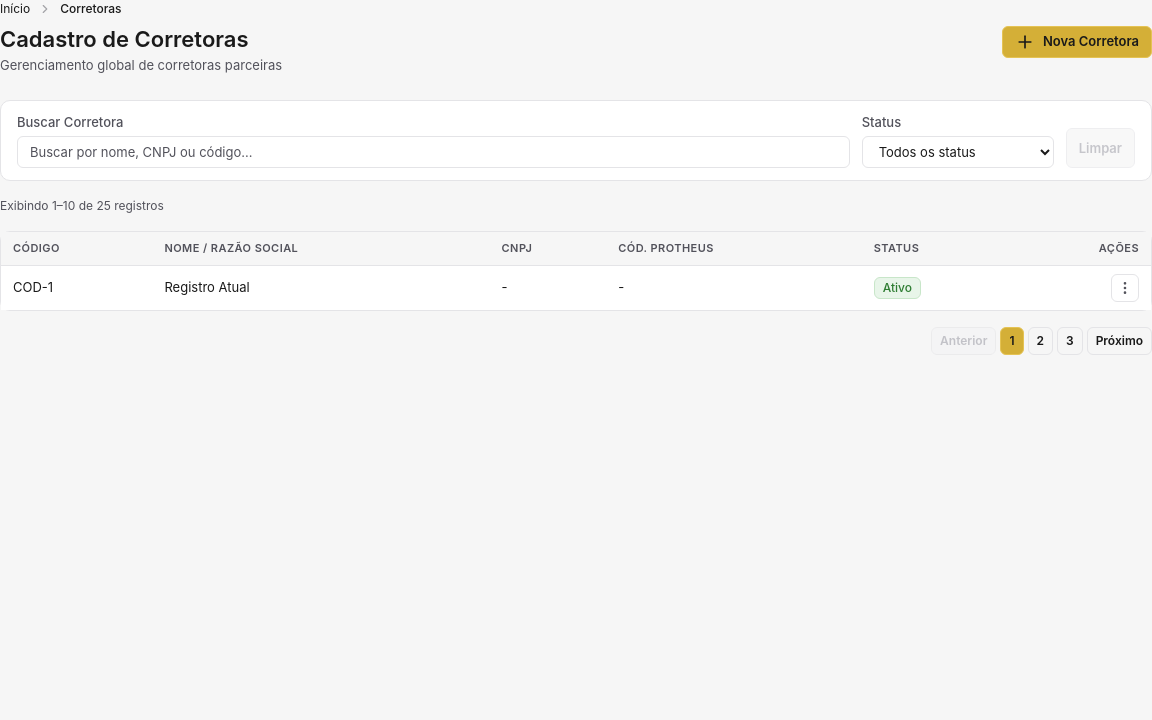
Test: Consultas de corretoras › preserva dados em atualização e permite recuperar falha da consulta após inativar
Click the button named "Mais ações" at coordinates (1125, 288), box [1111,274,1139,302]
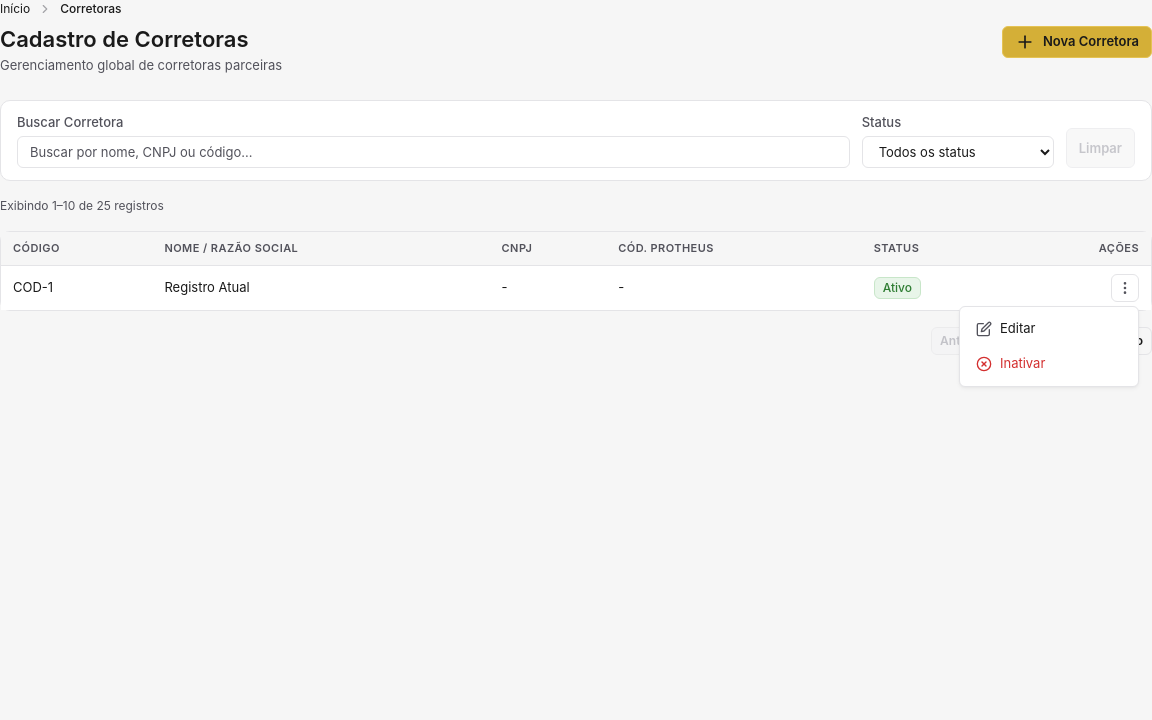
Click the menu item "Inativar" at coordinates (1049, 364), box [960,346,1138,382]
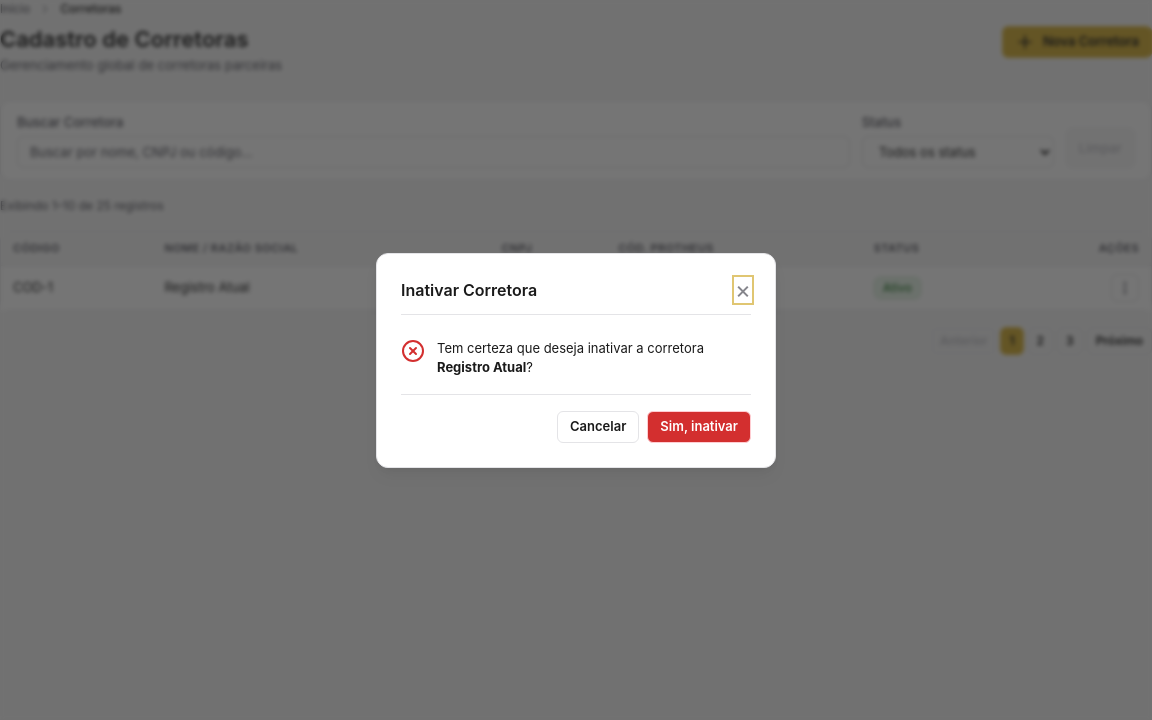
Click the button "Sim, inativar" at coordinates (699, 426), box [647,410,751,442]
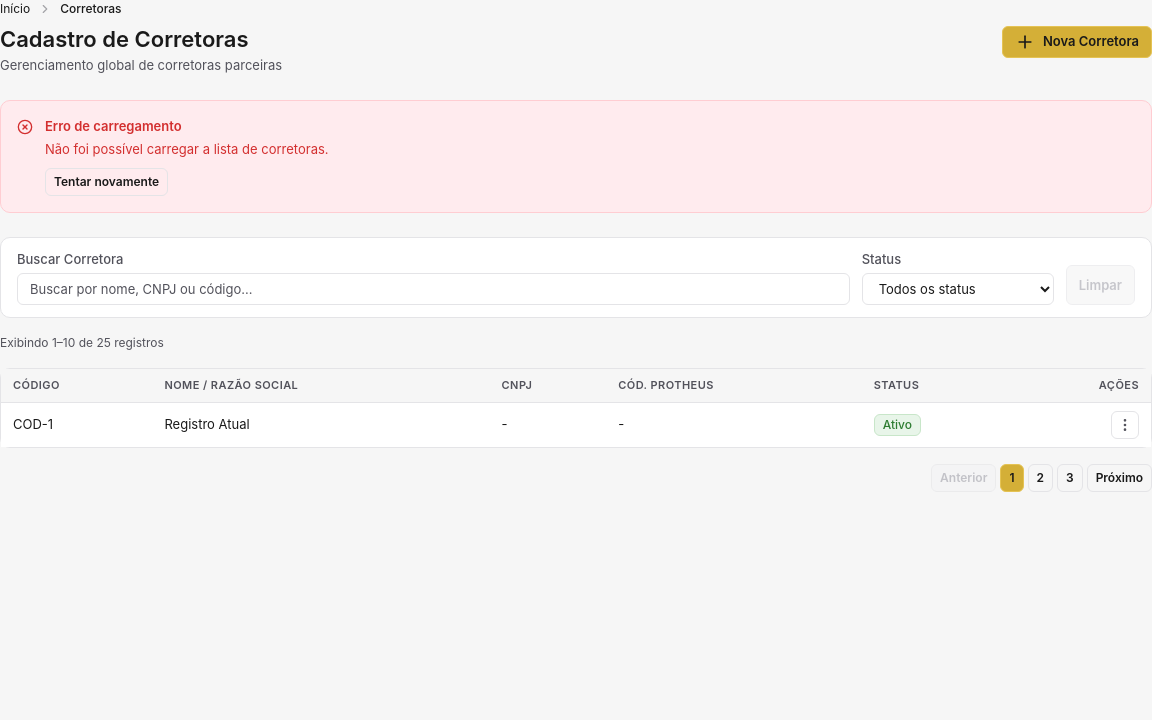
Expected: the text "Registro Atual" is shown, [152,402,490,447]
Expected: the message is shown, [0,100,1151,213]
Click the button "Tentar novamente" at coordinates (107, 182), box [45,168,168,196]
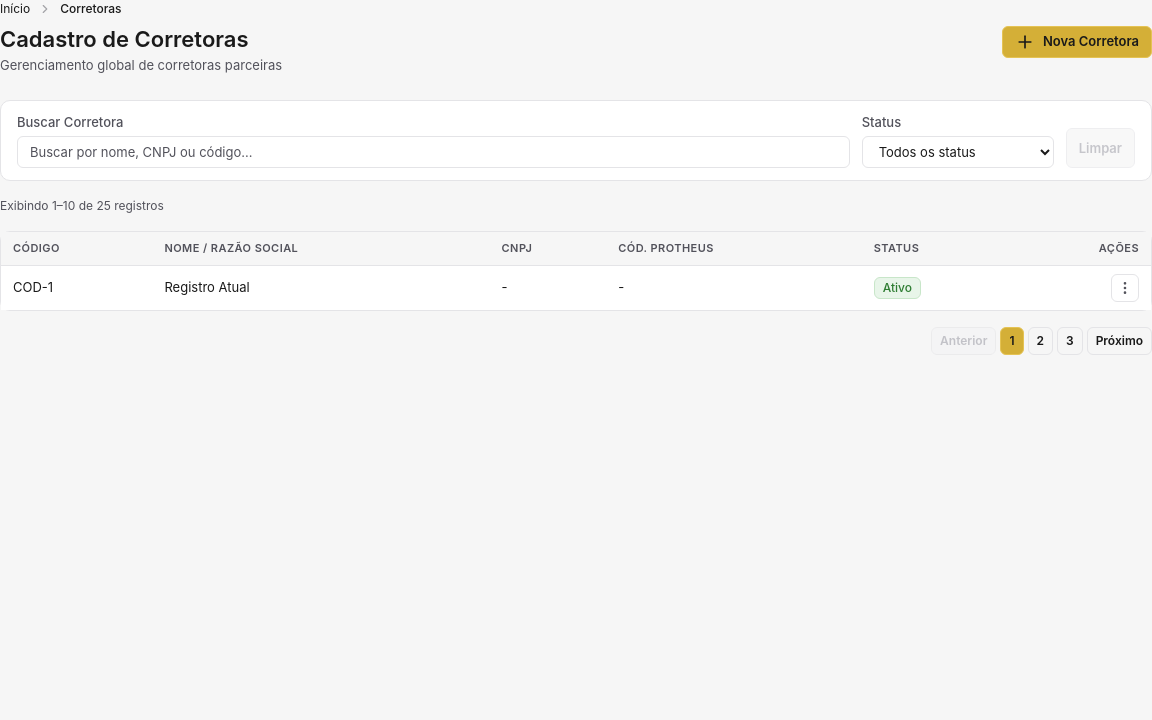
Expected: the message is gone
